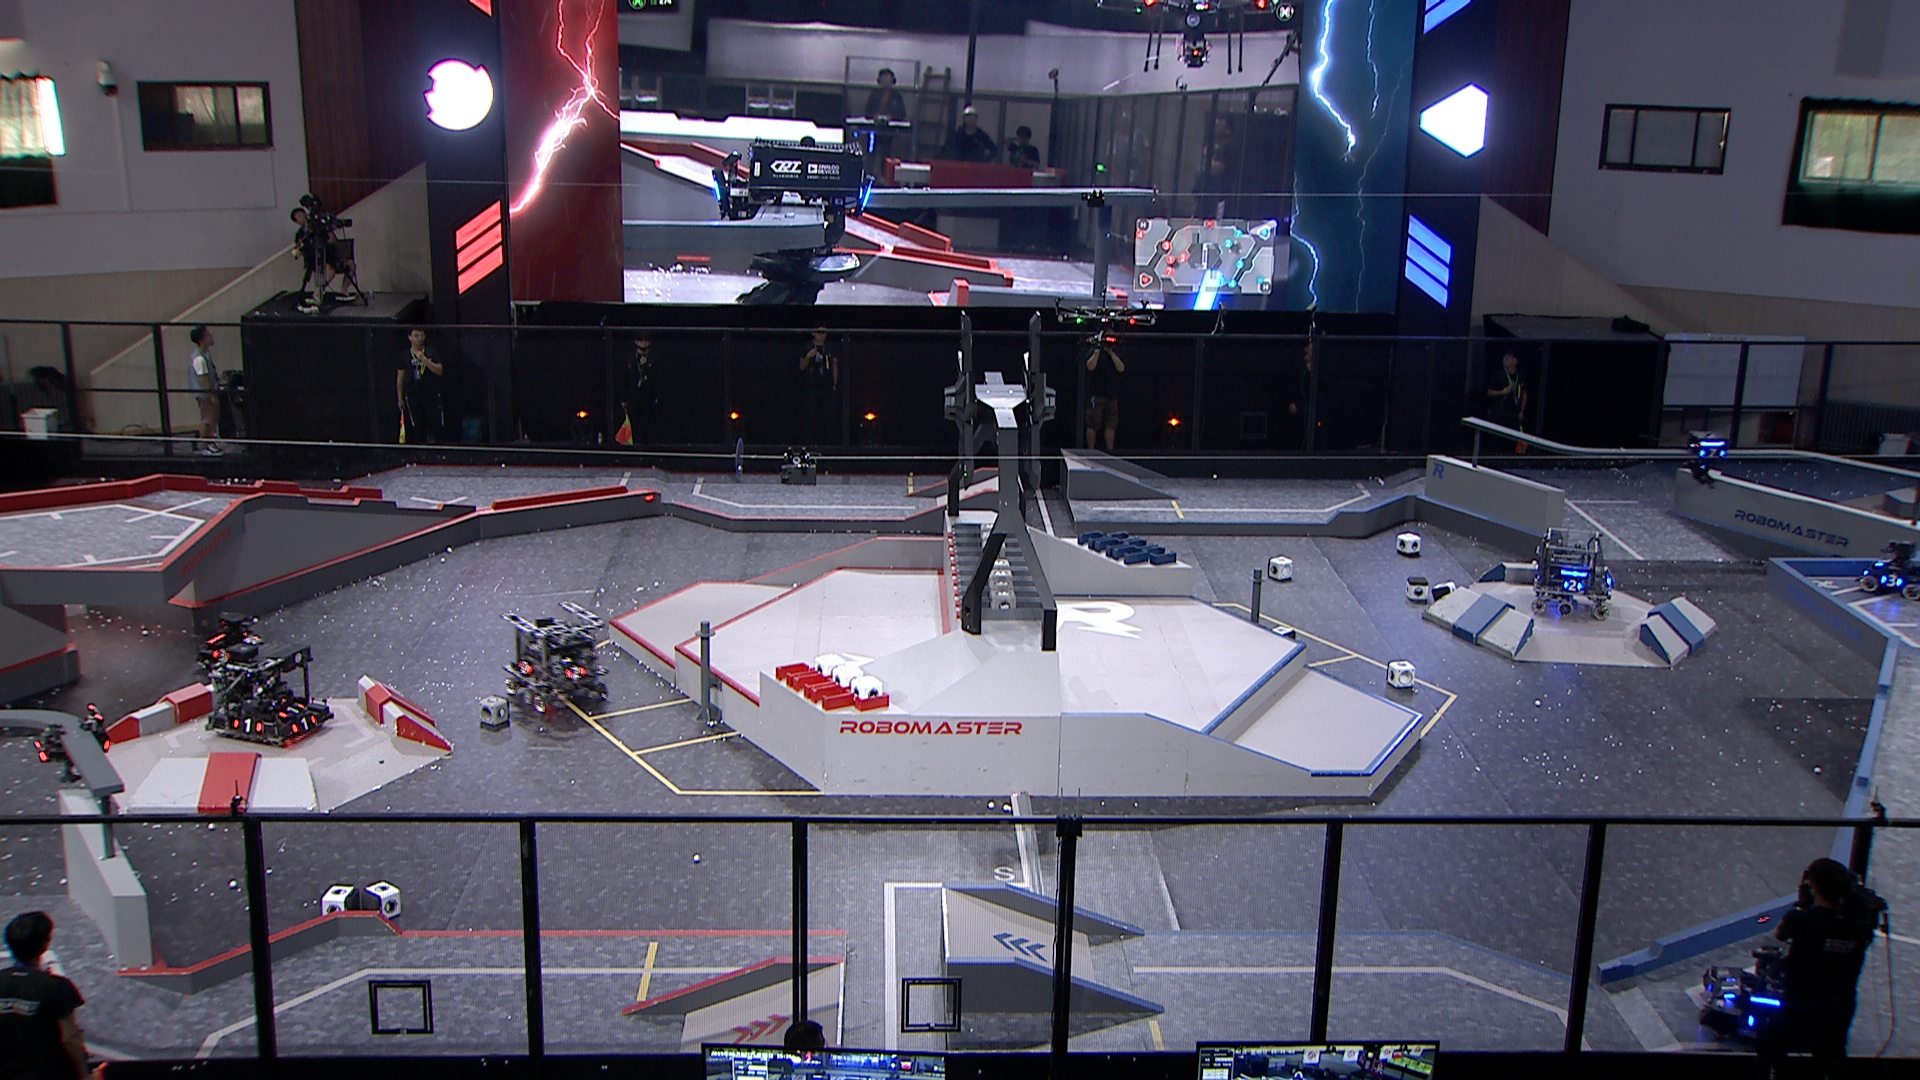armor: (225, 713, 269, 735), (1716, 972, 1742, 1005), (273, 698, 306, 721), (289, 713, 319, 733), (1878, 568, 1904, 589), (30, 740, 50, 764), (1560, 575, 1584, 593), (1870, 553, 1894, 571), (210, 645, 231, 662), (1697, 446, 1726, 458), (564, 665, 585, 680), (517, 657, 533, 676)
car: (202, 638, 338, 749), (1698, 932, 1836, 1039), (502, 600, 612, 717), (1532, 522, 1617, 618), (196, 609, 266, 670), (1855, 535, 1920, 599)
ignore: (711, 133, 876, 306)
watcher: (29, 700, 115, 781), (1681, 425, 1730, 488)
